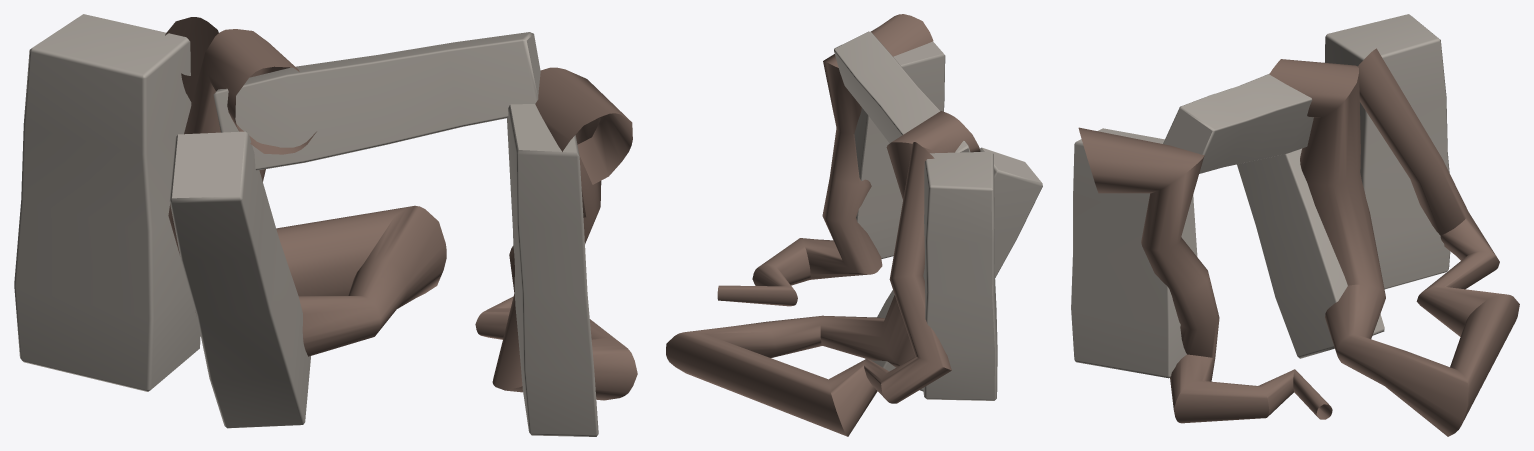
File: MSH_Door_04.fbx
3 renders of one model, left to right at view 1: azimuth 30°, elevation 25°; view 2: azimuth 150°, elevation 25°; view 3: azimuth 270°, elevation 25°, orthographic. The views are drawn at different scales.
Visible parts, largest first — view 1: MSH_Door_04; view 2: MSH_Door_04; view 3: MSH_Door_04.
Boxes of the visible parts, left/top/right/bottom form: MSH_Door_04: left=14, top=14, right=637, bottom=436; MSH_Door_04: left=666, top=14, right=1042, bottom=436; MSH_Door_04: left=1071, top=14, right=1519, bottom=436.
Bounding box in the file's own units: 728 × 604 × 796.
